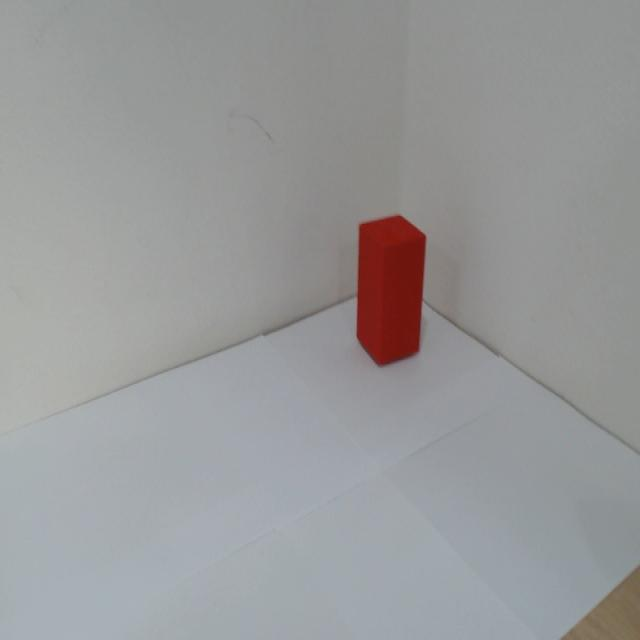cube: (350, 209, 429, 371)
